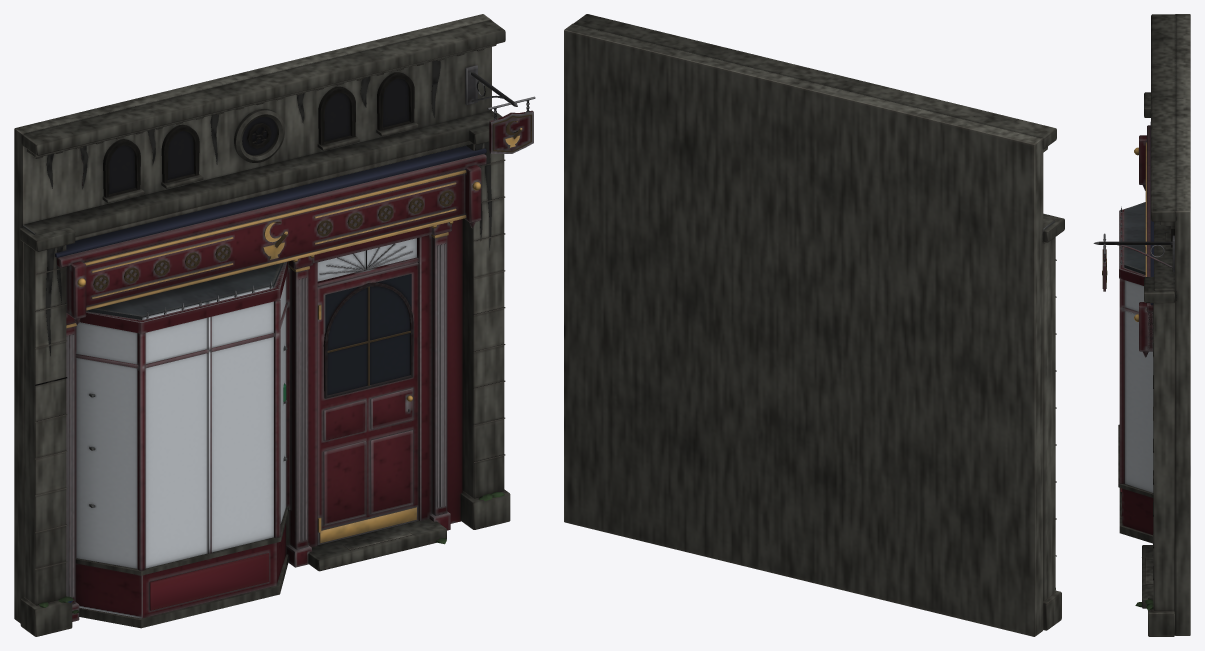
The model's file is ShopApothecary.fbx.
3 renders of one model, left to right at view 1: azimuth 30°, elevation 25°; view 2: azimuth 150°, elevation 25°; view 3: azimuth 270°, elevation 25°, orthographic. The views are drawn at different scales.
Parts seen in each view (by area): view 1: ShopApothecary_Main, ShopApothecary_Glass, ShopApothecary_Upper, ShopApothecary_Door0, ShopApothecary_Cloth; view 2: ShopApothecary_Main, ShopApothecary_Upper; view 3: ShopApothecary_Main, ShopApothecary_Upper, ShopApothecary_Glass, ShopApothecary_Cloth.
Part boxes in pixels (x1=…): ShopApothecary_Main: x1=14, y1=14, x2=535, y2=636; ShopApothecary_Glass: x1=76, y1=238, x2=416, y2=568; ShopApothecary_Upper: x1=22, y1=20, x2=505, y2=356; ShopApothecary_Door0: x1=317, y1=262, x2=418, y2=545; ShopApothecary_Cloth: x1=489, y1=100, x2=533, y2=153; ShopApothecary_Main: x1=564, y1=23, x2=1064, y2=636; ShopApothecary_Upper: x1=573, y1=14, x2=1056, y2=242; ShopApothecary_Main: x1=1093, y1=14, x2=1190, y2=636; ShopApothecary_Upper: x1=1151, y1=14, x2=1176, y2=300; ShopApothecary_Glass: x1=1125, y1=280, x2=1153, y2=492; ShopApothecary_Cloth: x1=1102, y1=239, x2=1107, y2=291.
Size of the model in its own units: 1220 by 1201 by 249.
